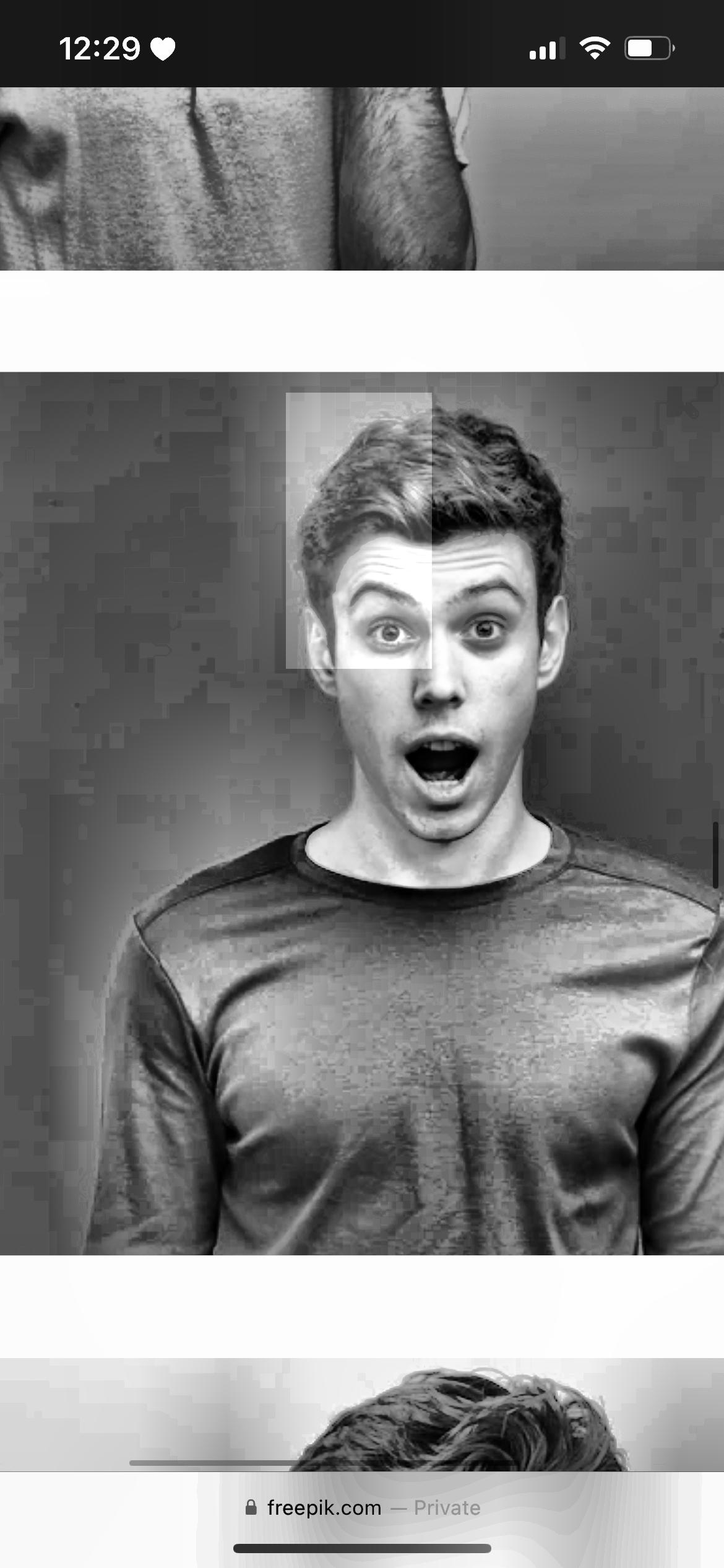surprised: (353, 485, 534, 827)
